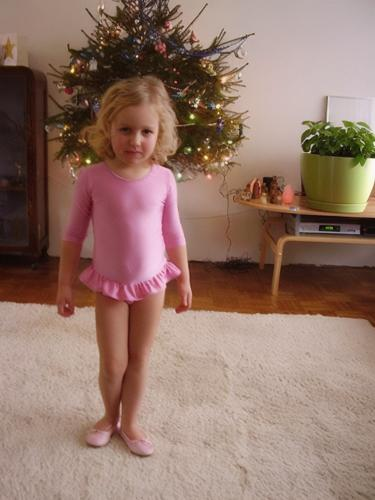person: (57, 78, 195, 461)
person/foot: (119, 424, 153, 457), (87, 416, 117, 448)
person/hand: (56, 288, 75, 316), (175, 286, 193, 313)
person/head: (112, 78, 159, 163)
pottedplant: (301, 121, 375, 213)
